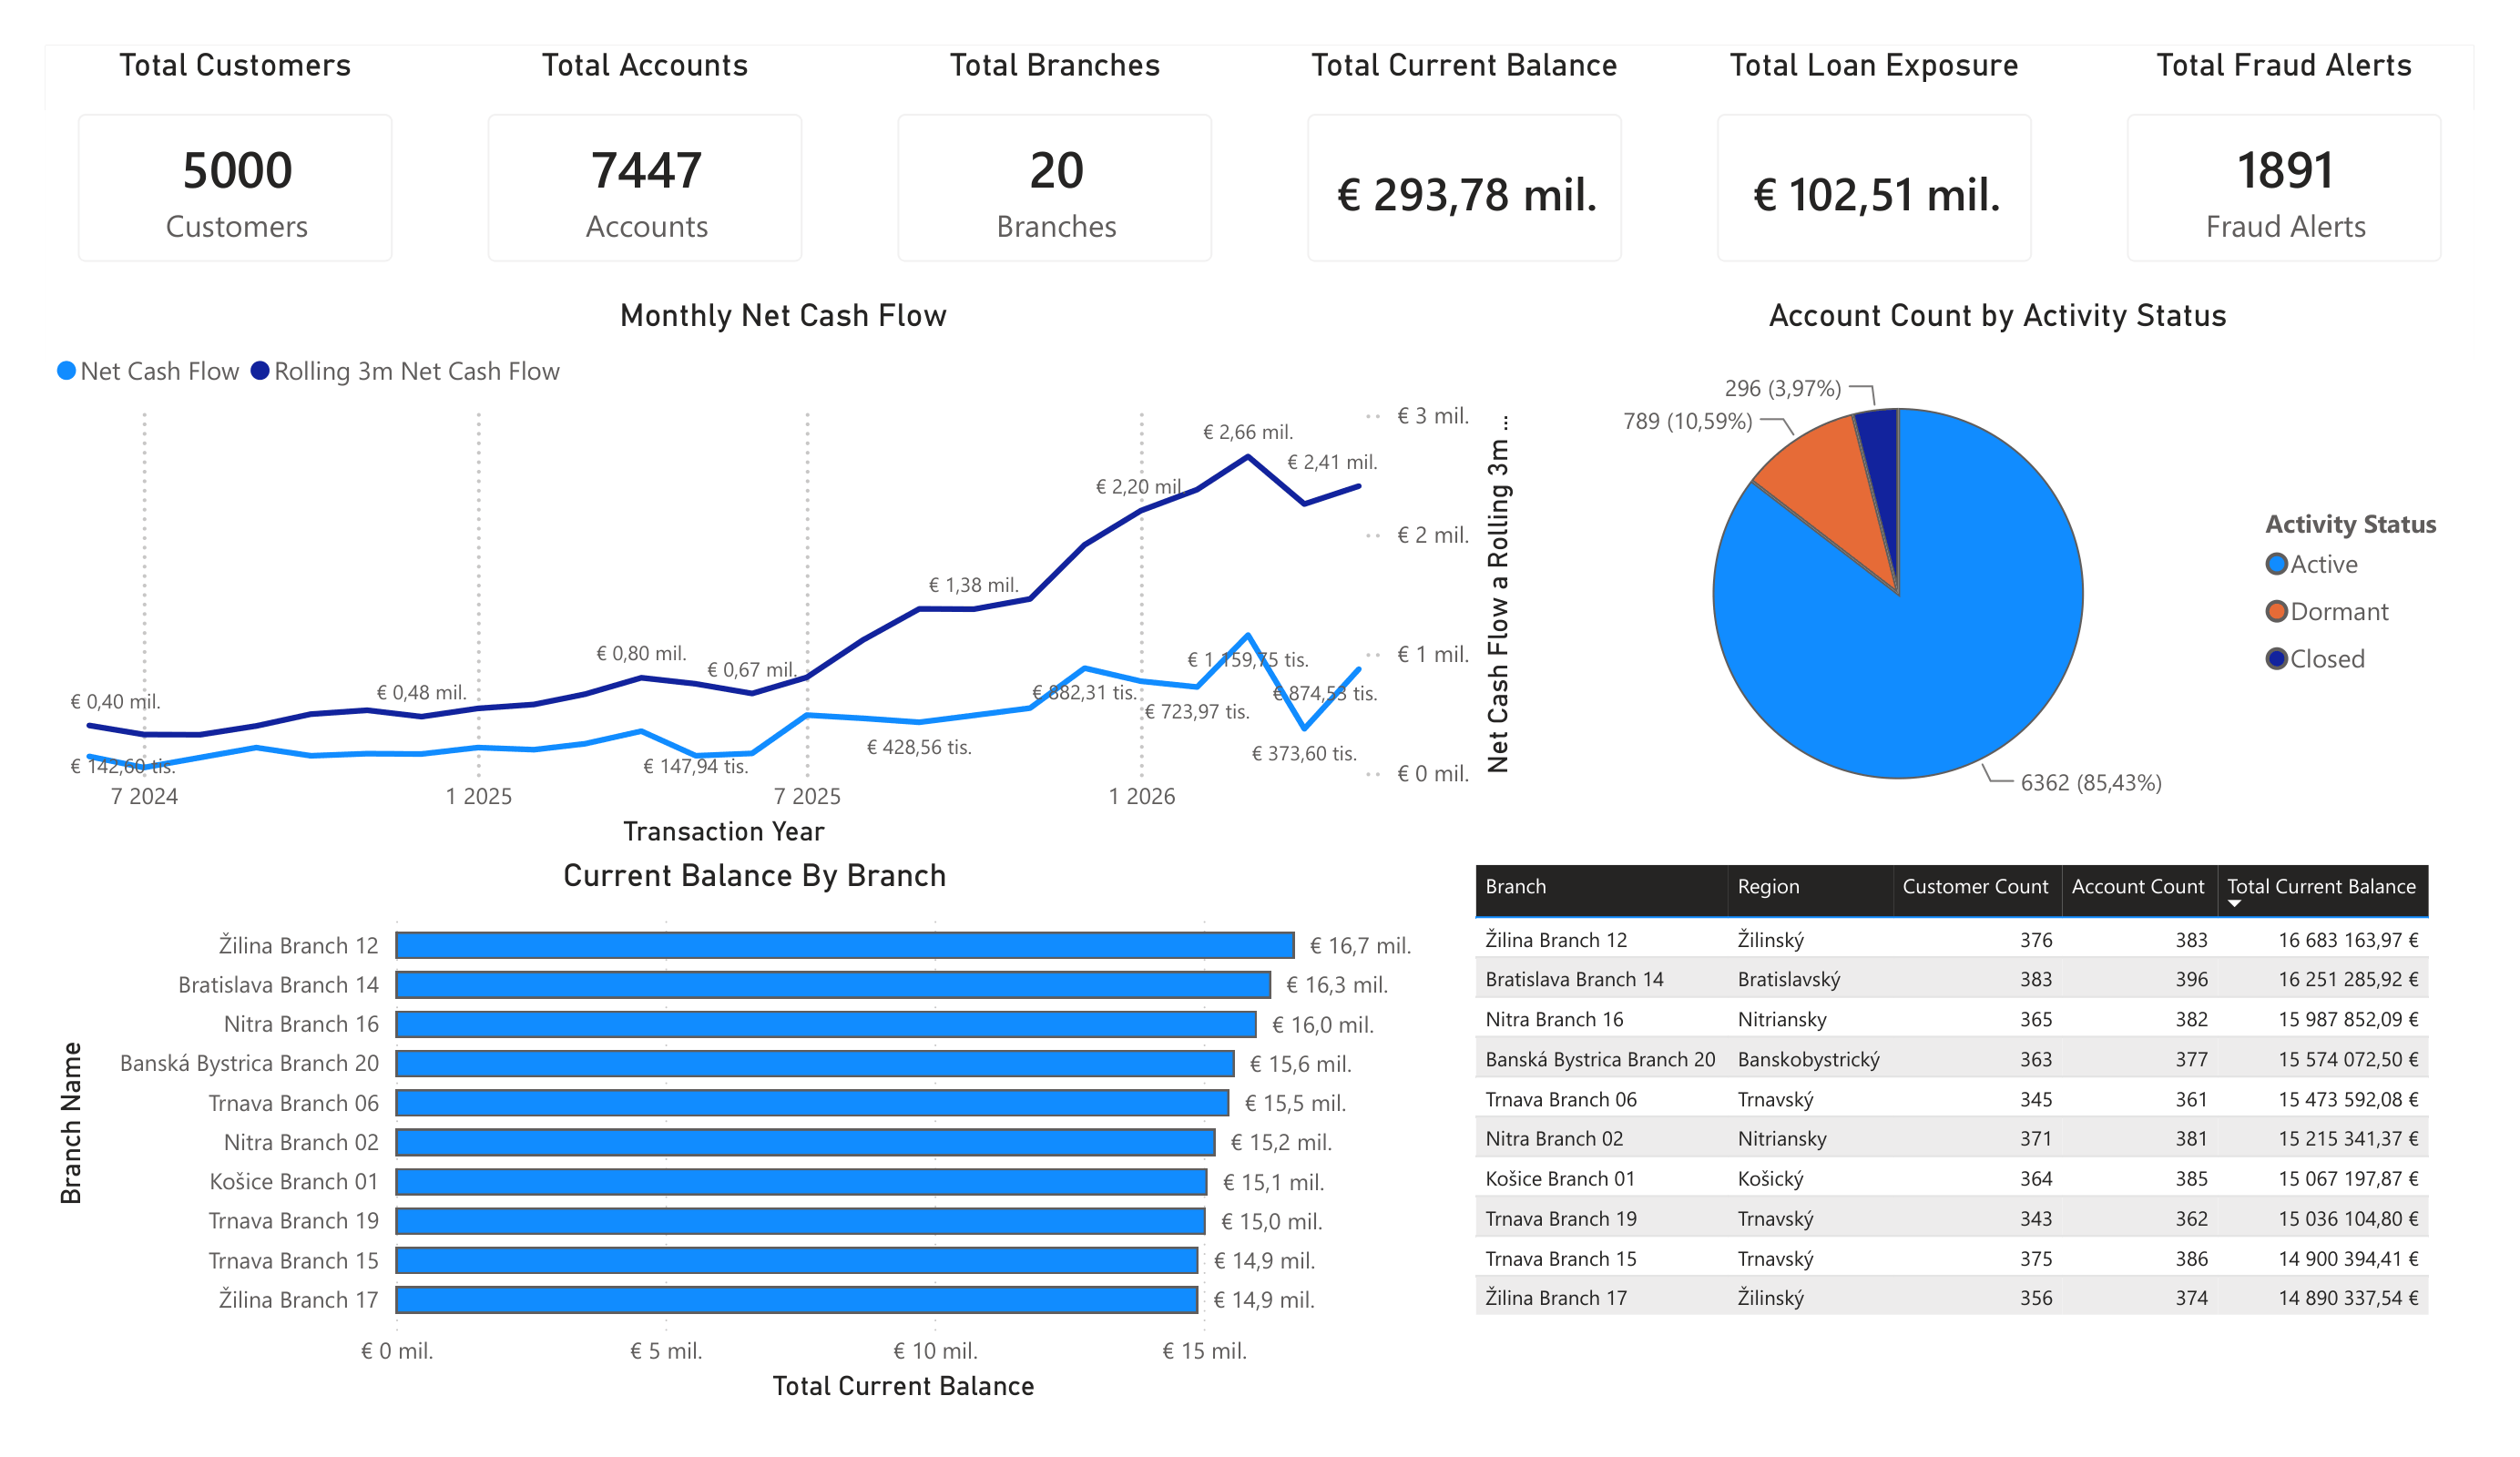

Layout of this report page (visuals, bound fields, positions):
{"tool":"powerbi","page":{"name":"Executive Banking Overview","canvas":[1280,720],"ordinal":0},"visuals":[{"type":"cardVisual","title":"Total Customers","fields":{"Data":["_Measures.Total Customers"]},"box":[0,0,200.3,131.7],"z":0},{"type":"cardVisual","title":"Total Accounts","fields":{"Data":["_Measures.Total Accounts"]},"box":[216,0,200.3,131.7],"z":1000},{"type":"cardVisual","title":"Total Current Balance","fields":{"Data":["_Measures.Total Current Balance"]},"box":[648,0,200.3,131.7],"z":2000},{"type":"cardVisual","title":"Total Loan Exposure","fields":{"Data":["_Measures.Total Loan Exposure"]},"box":[863.9,0,200.3,131.7],"z":3000},{"type":"cardVisual","title":"Total Fraud Alerts","fields":{"Data":["_Measures.Total Fraud Alerts"]},"box":[1079.7,0,200.3,131.7],"z":4000},{"type":"cardVisual","title":"Total Branches","fields":{"Data":["_Measures.Total Branches"]},"box":[432,0,200.3,131.7],"z":5000},{"type":"lineChart","title":"Monthly Net Cash Flow","fields":{"Y2":["Sum(monthly_transaction_summary.net_cash_flow)","Sum(monthly_transaction_summary.rolling_3m_net_cash_flow)"],"Category":["monthly_transaction_summary.transaction_month"]},"box":[0,131.7,778,295],"z":6000},{"type":"pieChart","title":"Account Count by Activity Status","fields":{"Category":["account_activity_monitoring.account_activity_status"],"Y":["CountNonNull(account_activity_monitoring.account_id)"]},"box":[778,131.7,502.2,295],"z":7000},{"type":"barChart","title":"Current Balance By Branch","fields":{"Category":["branch_account_portfolio.branch_name"],"Y":["Sum(branch_account_portfolio.total_current_balance)"]},"box":[0,426.8,747.9,293.7],"z":8000},{"type":"tableEx","fields":{"Values":["branch_account_portfolio.branch_name","branch_account_portfolio.region","Sum(branch_account_portfolio.customer_count)","Sum(branch_account_portfolio.account_count)","Sum(branch_account_portfolio.total_current_balance)"]},"box":[747.9,426.8,532.4,293.7],"z":9000}]}

Visuals, with their boxes on the page's 1280x720 design canvas (x1, y1, x2, y2). These are canvas units, not pixel positions in the 2520x1457 screenshot, which may show the page scaled, cropped or inside an application window:
"Total Customers" cardVisual: box(0, 0, 200, 132)
"Total Accounts" cardVisual: box(216, 0, 416, 132)
"Total Current Balance" cardVisual: box(648, 0, 848, 132)
"Total Loan Exposure" cardVisual: box(864, 0, 1064, 132)
"Total Fraud Alerts" cardVisual: box(1080, 0, 1280, 132)
"Total Branches" cardVisual: box(432, 0, 632, 132)
"Monthly Net Cash Flow" lineChart: box(0, 132, 778, 427)
"Account Count by Activity Status" pieChart: box(778, 132, 1280, 427)
"Current Balance By Branch" barChart: box(0, 427, 748, 720)
tableEx - branch_account_portfolio.branch_name x branch_account_portfolio.region: box(748, 427, 1280, 720)
